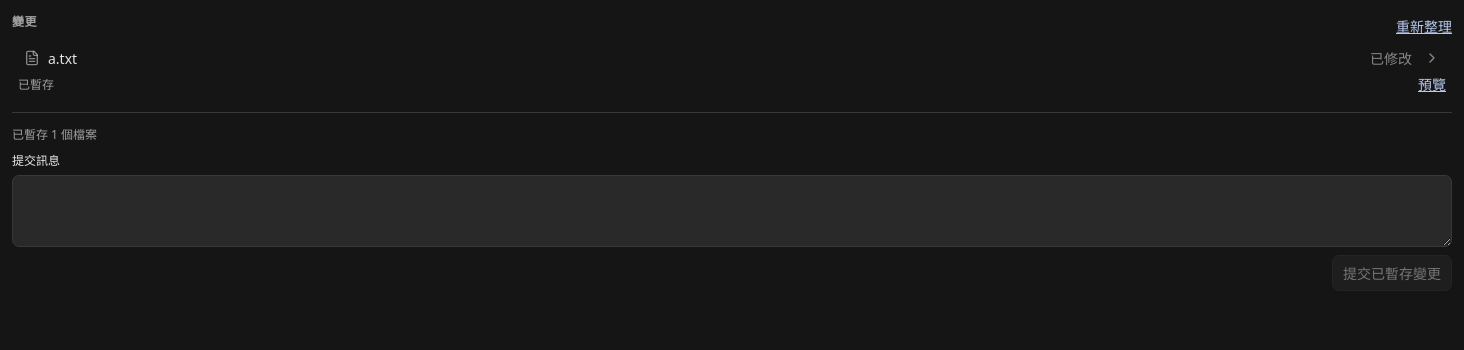
it: ReviewPane › keeps the commit message after a failure and clears it after a successful local commit
The width and height of the screenshot is (1464, 350).
Type "Human commit" into the text box labelled "提交訊息". click: (732, 211)
box: [12, 175, 1452, 247]
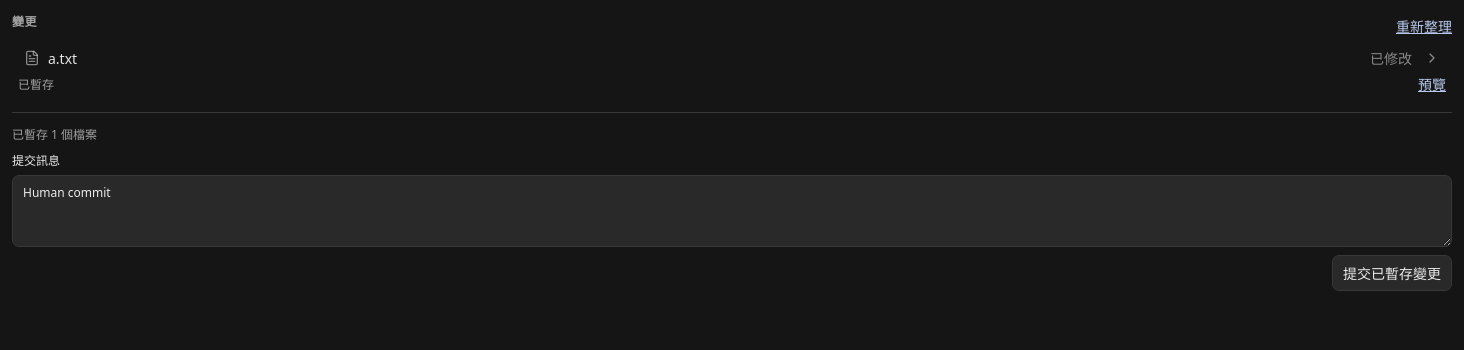
Click the button "提交已暫存變更". click: (1392, 273)
box: [1332, 255, 1452, 291]
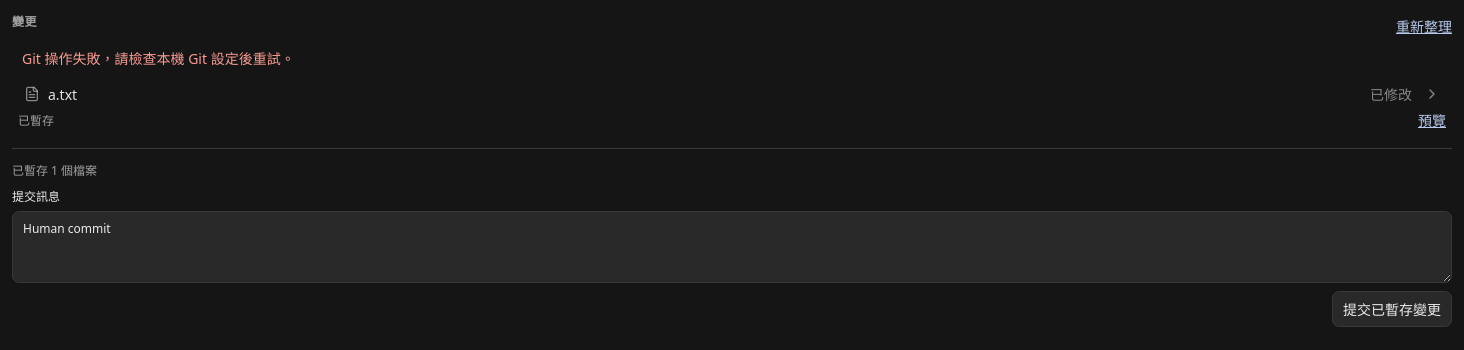
Result: the message shows "Git 操作失敗" at [22, 49, 295, 68]
Click the button "提交已暫存變更". click: (1392, 309)
box: [1332, 291, 1452, 327]
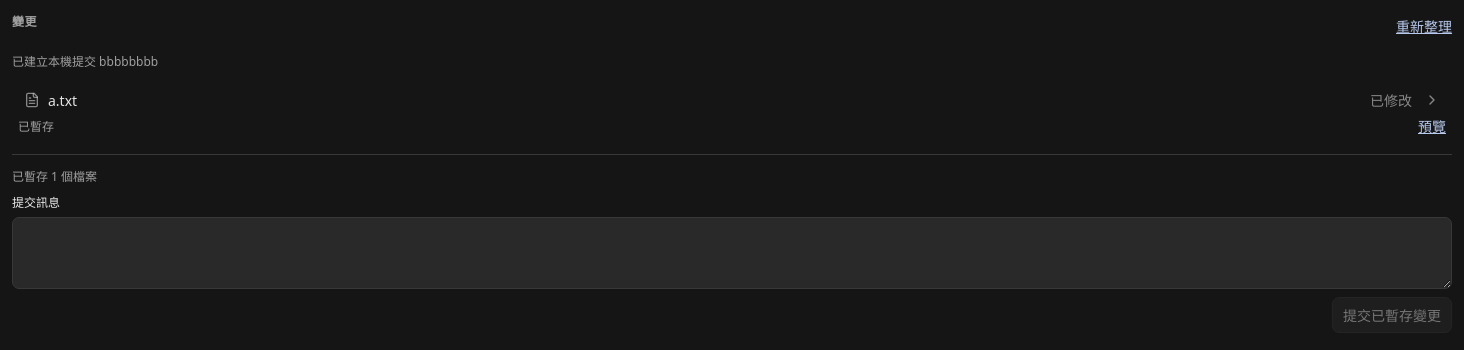
Result: the text box labelled "提交訊息" is empty at [12, 217, 1452, 289]
Result: the message shows "已建立本機提交" at [12, 53, 158, 70]
